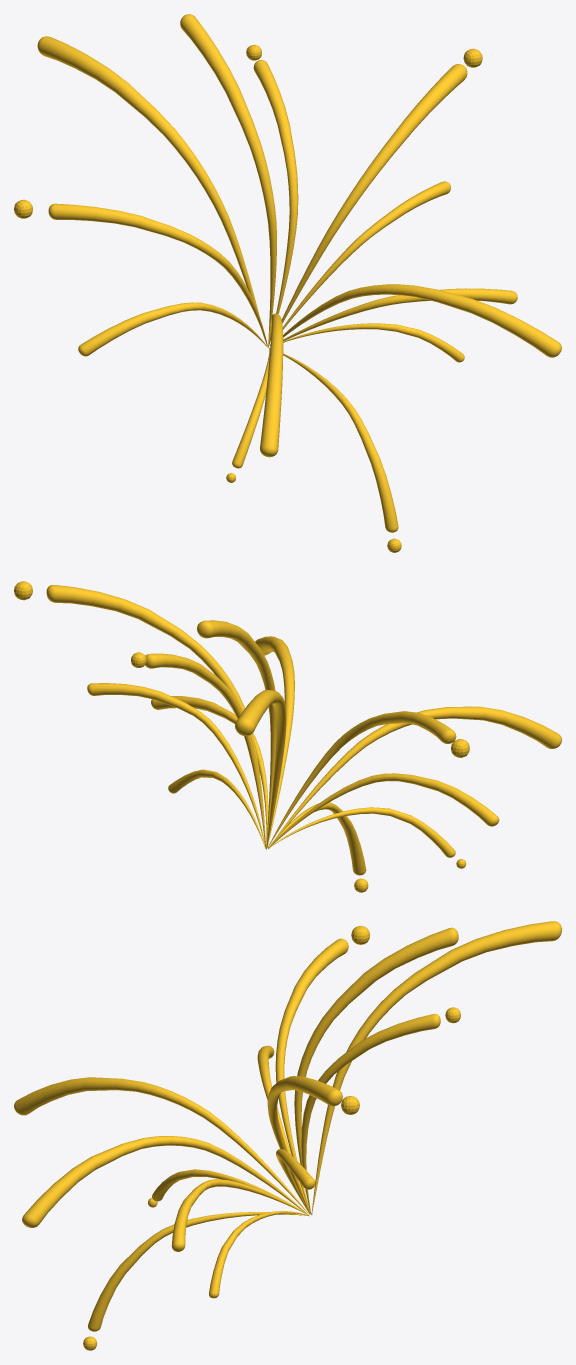
Rendered from fireworks.glb.
The picture shows the model from 3 angles, top to bottom: view 1: azimuth 30°, elevation 25°; view 2: azimuth 150°, elevation 25°; view 3: azimuth 270°, elevation 25°; orthographic projection.
Parts seen in each view (by area): view 1: Sphere.513; view 2: Sphere.513; view 3: Sphere.513.
Part boxes in pixels (box(x1,y1,x2,y2)): Sphere.513: box(14, 14, 561, 552); Sphere.513: box(14, 581, 561, 892); Sphere.513: box(14, 921, 561, 1350).
Bounding box in the file's own units: 2.38 × 2.03 × 2.46.
Materials: 1 (1 with a texture image).
